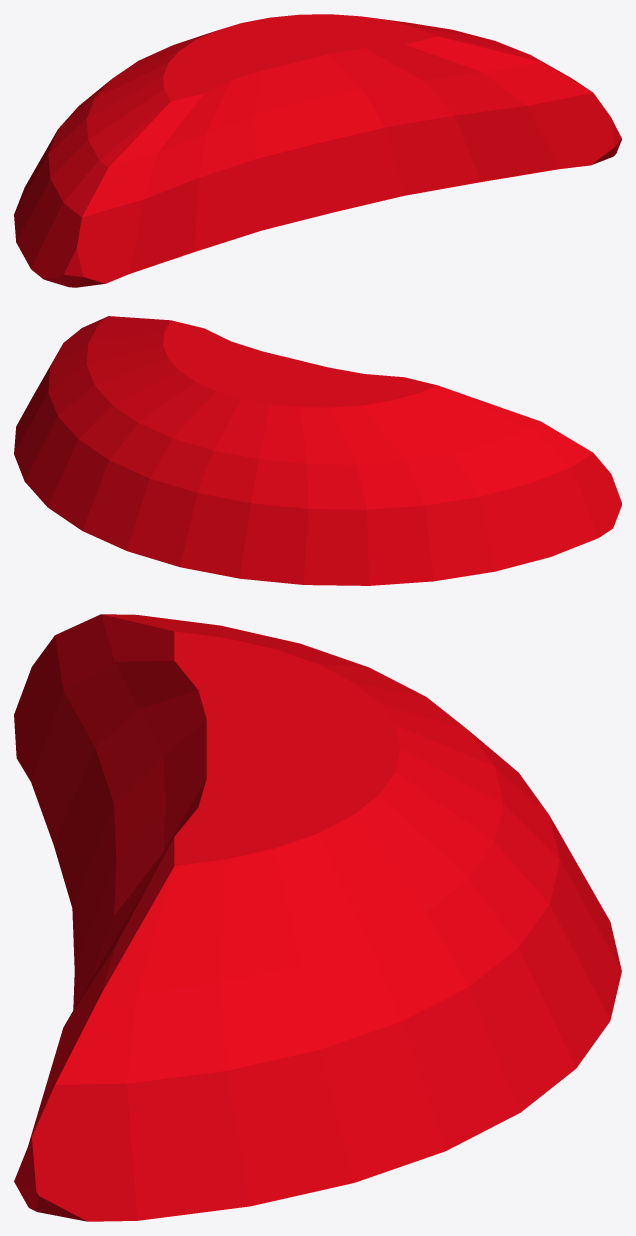
File: moonblock.glb
The picture shows the model from 3 angles, top to bottom: view 1: azimuth 30°, elevation 25°; view 2: azimuth 150°, elevation 25°; view 3: azimuth 270°, elevation 25°; orthographic projection. The views are drawn at different scales.
Visible parts, largest first — view 1: Cylinder; view 2: Cylinder; view 3: Cylinder.
Boxes of the visible parts, x1,y1,x2,y2 form: Cylinder: (14, 14, 621, 287); Cylinder: (14, 316, 621, 585); Cylinder: (14, 614, 621, 1221).
Bounding box in the file's own units: 1.97 × 0.4081 × 1.01.
